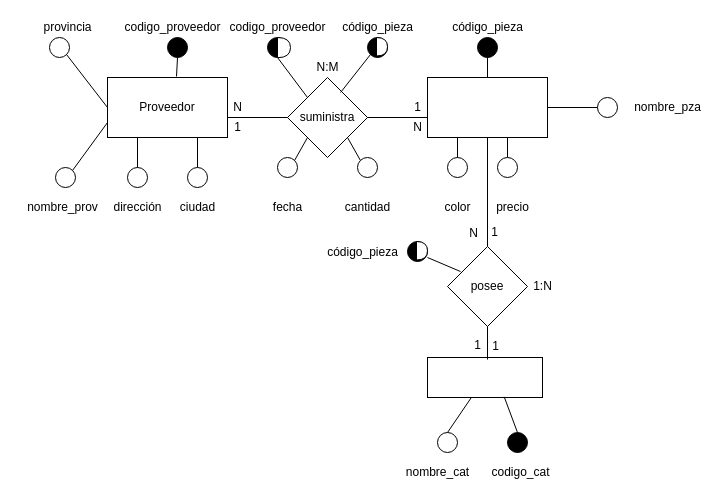
Some shapes in this 724 by 499 pixel diagram are drawn without their labels. The shapes that lost their labels are listed below. From the top down, each one's centre as x and y in pixels, then its label:
[487,107]: pieza
[484,377]: categoría
